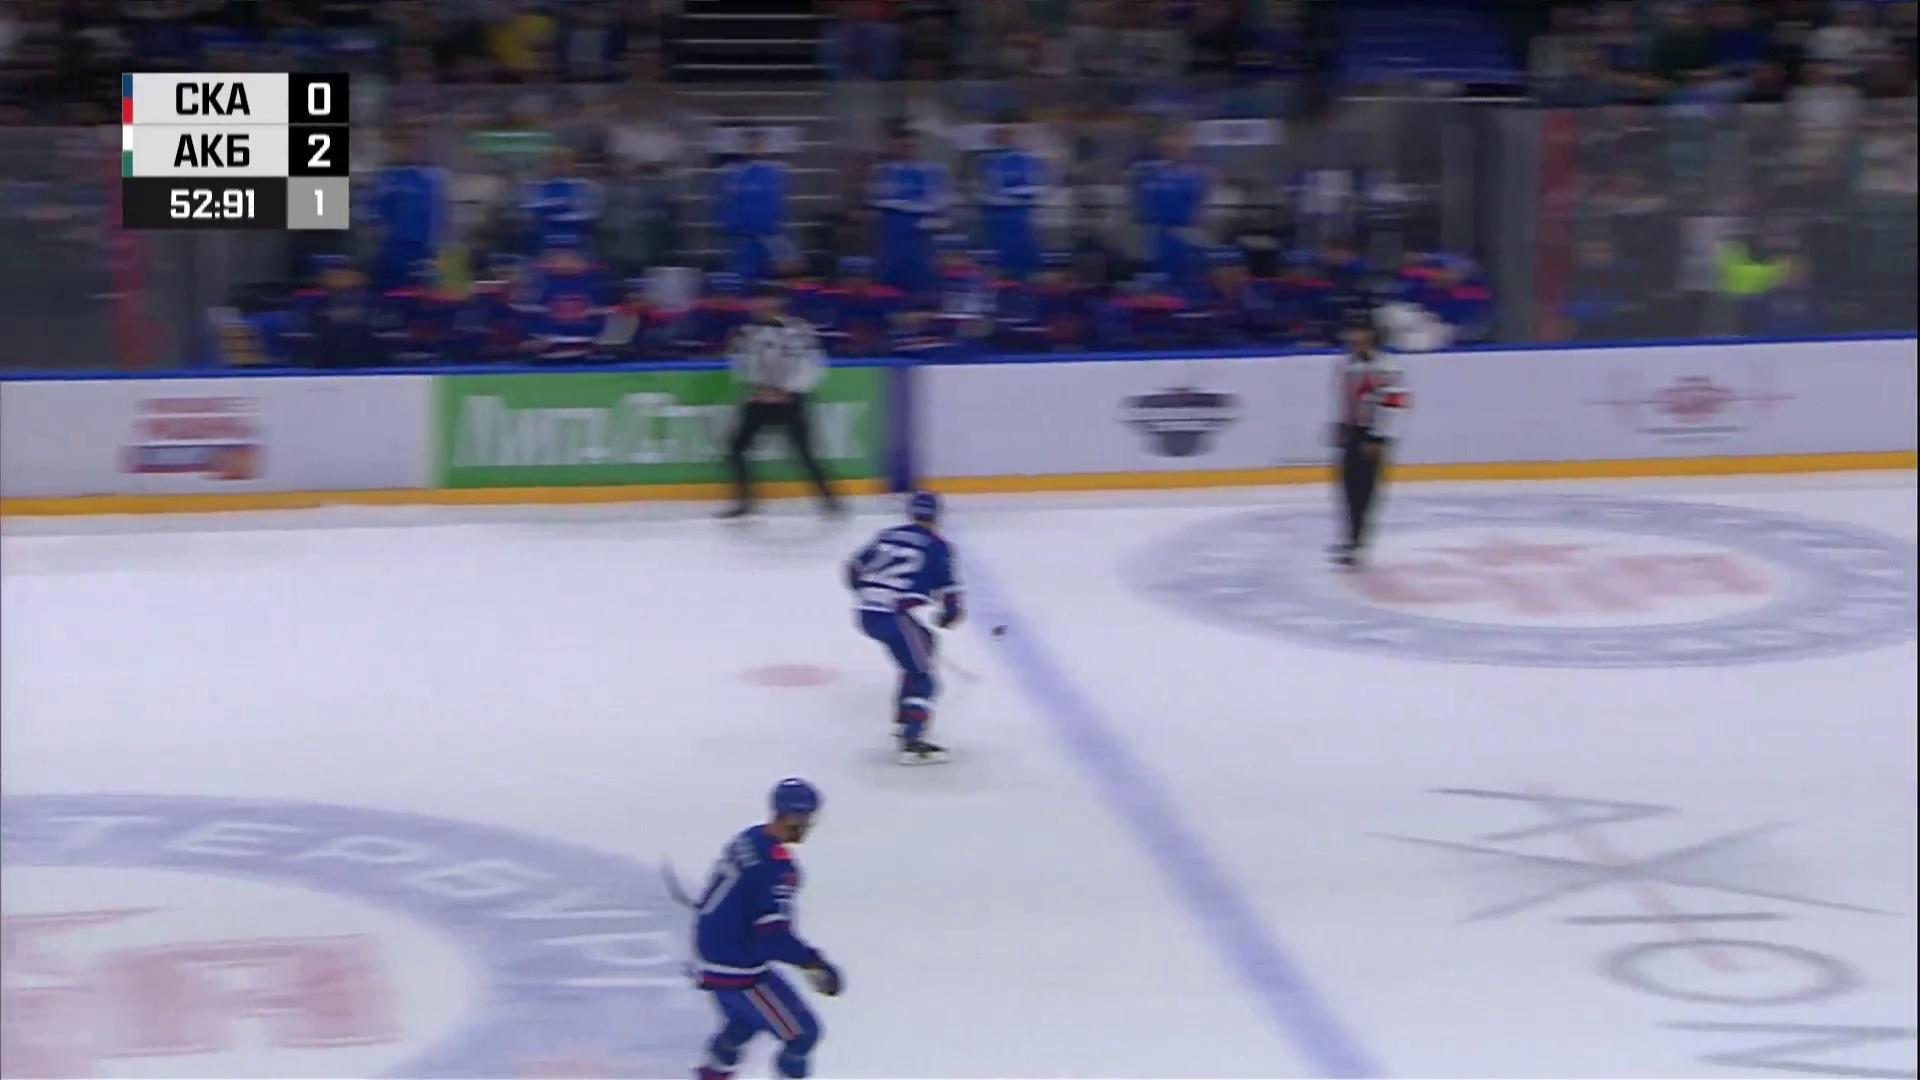ball: (992, 625, 1009, 640)
